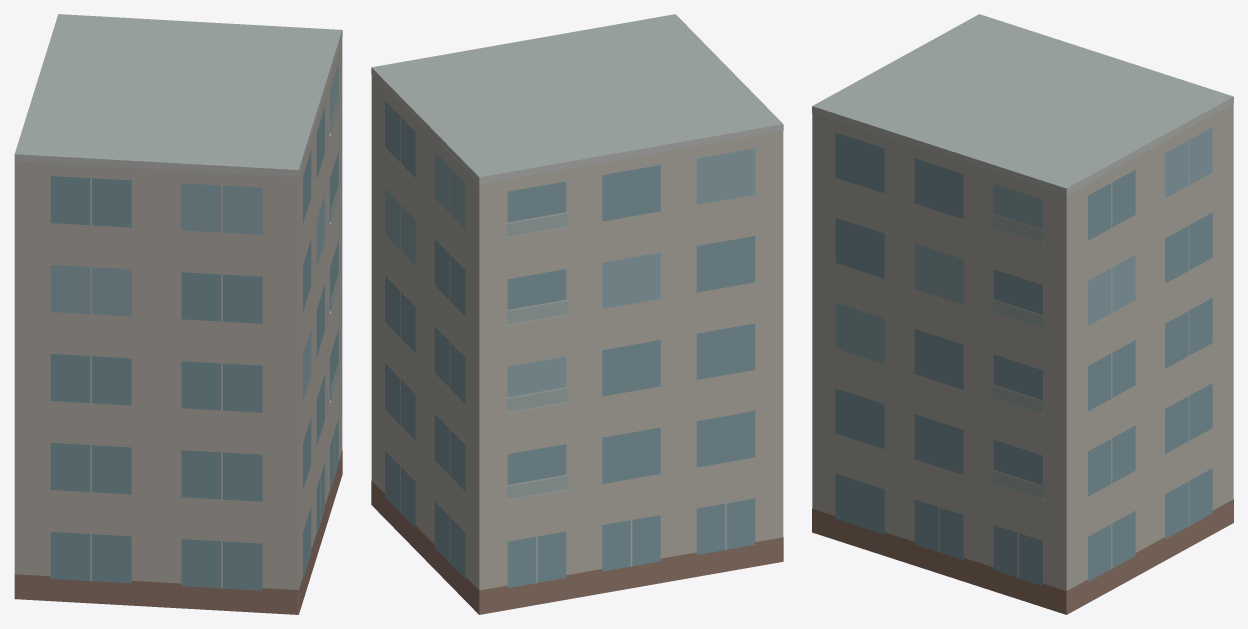
The model's file is residential-534263d1-93ab-41fc-b2de-4afca8ea25c2.glb.
The picture shows the model from 3 angles, left to right: view 1: azimuth 30°, elevation 25°; view 2: azimuth 150°, elevation 25°; view 3: azimuth 270°, elevation 25°; orthographic projection. The views are drawn at different scales.
Parts seen in each view (by area): view 1: residential-534263d1-93ab-41fc-b2de-4afca8ea25c2.tmp; view 2: residential-534263d1-93ab-41fc-b2de-4afca8ea25c2.tmp; view 3: residential-534263d1-93ab-41fc-b2de-4afca8ea25c2.tmp.
Boxes of the visible parts, x1,y1,x2,y2 form: residential-534263d1-93ab-41fc-b2de-4afca8ea25c2.tmp: (14,14,342,614); residential-534263d1-93ab-41fc-b2de-4afca8ea25c2.tmp: (371,14,783,614); residential-534263d1-93ab-41fc-b2de-4afca8ea25c2.tmp: (812,14,1233,614).
Size of the model in its own units: 13.4 by 15.25 by 13.68.
